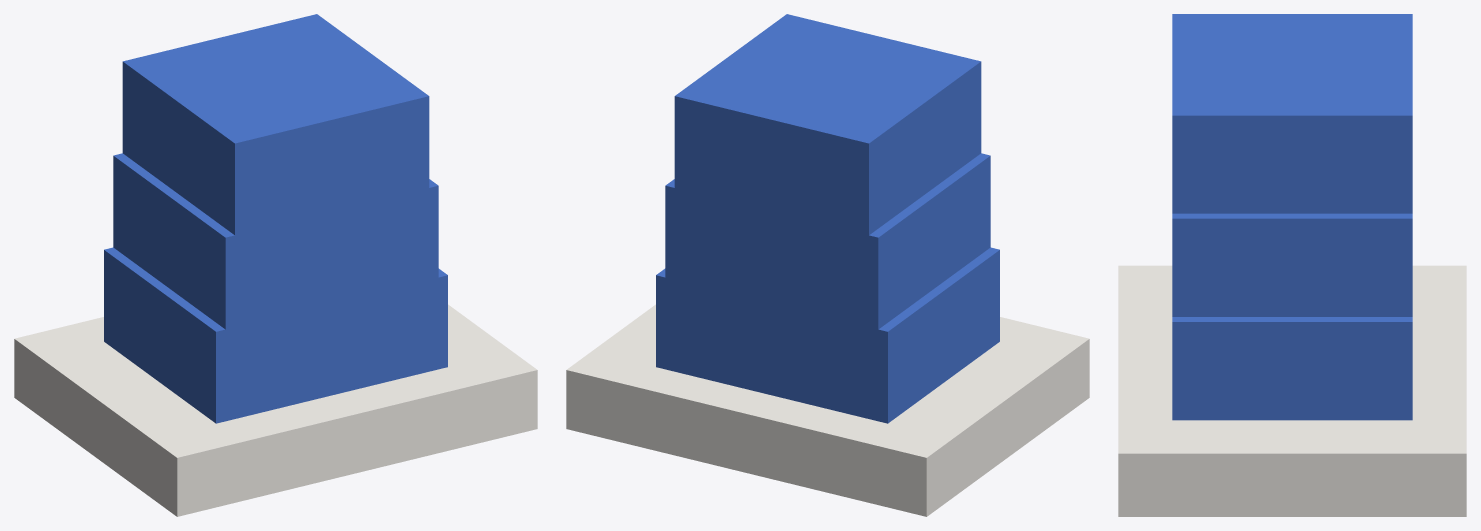
File: bookshelf-lv3.glb
3 views of the same model, side by side, from view 1: azimuth 30°, elevation 25°; view 2: azimuth 150°, elevation 25°; view 3: azimuth 270°, elevation 25° (orthographic). The views are drawn at different scales.
Parts seen in each view (by area): view 1: Base, Level3, Level1, Level2; view 2: Base, Level3, Level1, Level2; view 3: Base, Level3, Level1, Level2.
Boxes of the visible parts, x1,y1,x2,y2 form: Base: (14, 304, 537, 516); Level3: (122, 14, 429, 235); Level1: (104, 247, 447, 423); Level2: (113, 153, 438, 329); Base: (566, 304, 1089, 516); Level3: (674, 14, 981, 235); Level1: (656, 247, 999, 423); Level2: (665, 153, 990, 329); Base: (1118, 265, 1466, 516); Level3: (1172, 14, 1412, 213); Level1: (1172, 317, 1412, 420); Level2: (1172, 213, 1412, 316).
Bounding box in the file's own units: 1.15 × 1.02 × 0.9.
